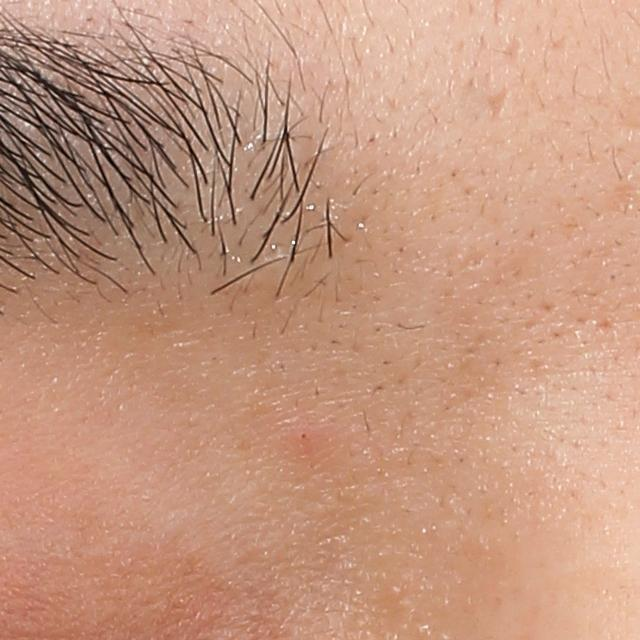atrophic_scar: (485, 84, 512, 123)
